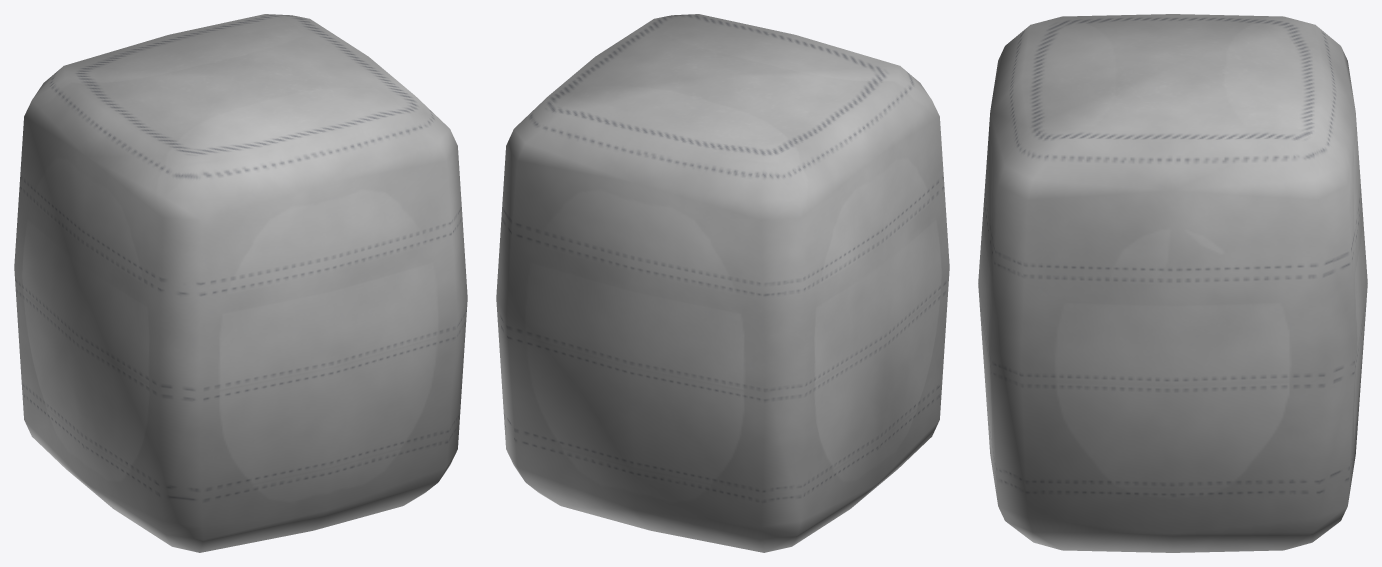
Rendered from RightLowerLeg_C2.fbx.
The picture shows the model from 3 angles, left to right: view 1: azimuth 30°, elevation 25°; view 2: azimuth 150°, elevation 25°; view 3: azimuth 270°, elevation 25°; orthographic projection. The views are drawn at different scales.
Visible parts, largest first — view 1: Civ_Pollera_RightLowerLeg_C2; view 2: Civ_Pollera_RightLowerLeg_C2; view 3: Civ_Pollera_RightLowerLeg_C2.
Part boxes in pixels (box(x1,y1,x2,y2)): Civ_Pollera_RightLowerLeg_C2: box(14, 14, 467, 552); Civ_Pollera_RightLowerLeg_C2: box(496, 14, 949, 552); Civ_Pollera_RightLowerLeg_C2: box(978, 14, 1367, 552).
Size of the model in its own units: 1.08 by 1.3 by 1.06.
